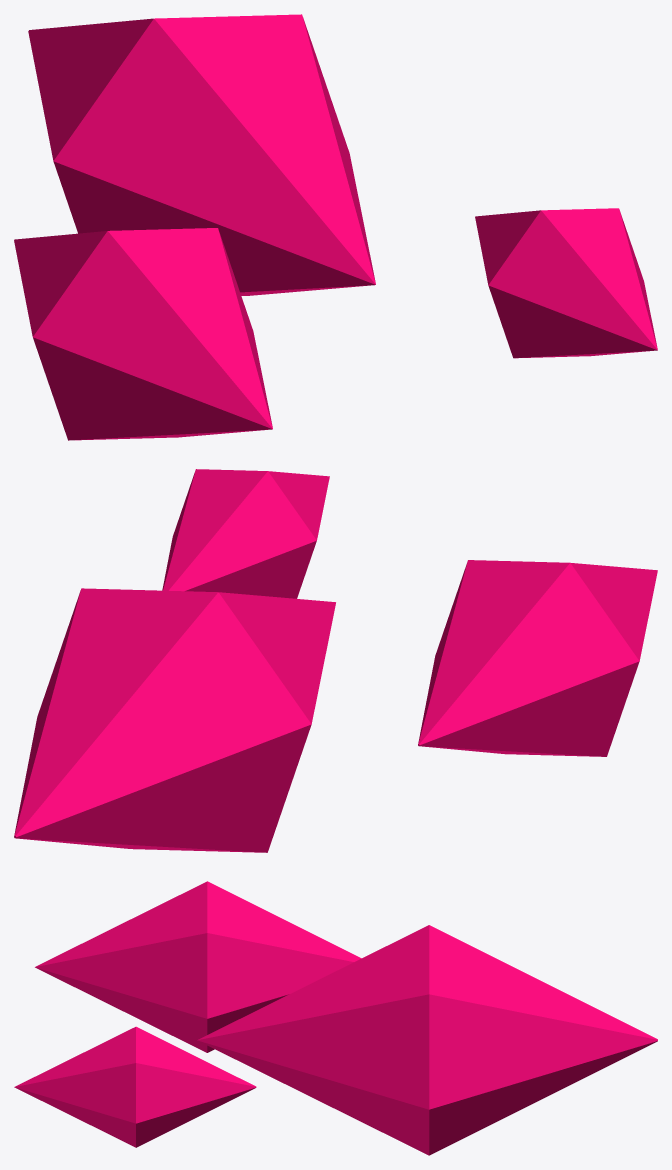
Rendered from CrystalClusterIcon.fbx.
3 views of the same model, one above another, from view 1: azimuth 30°, elevation 25°; view 2: azimuth 150°, elevation 25°; view 3: azimuth 270°, elevation 25° (orthographic). The views are drawn at different scales.
Visible parts, largest first — view 1: Cone.001; view 2: Cone.001; view 3: Cone.001.
Boxes of the visible parts, left/top/right/bottom form: Cone.001: left=14, top=14, right=657, bottom=440; Cone.001: left=14, top=469, right=657, bottom=852; Cone.001: left=14, top=881, right=657, bottom=1155.
Size of the model in its own units: 159 by 81.67 by 238.
